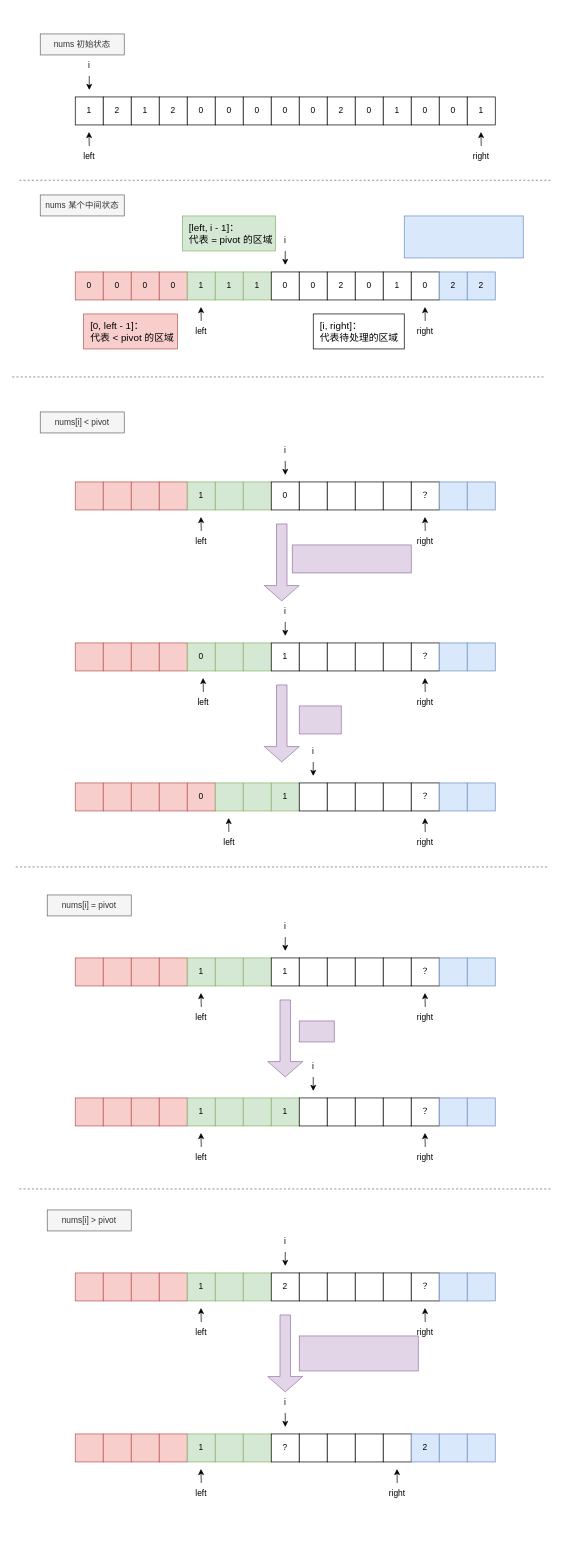
Image size: 573x1549. Some labels were removed from this diagram. The box of each missing label's shape, as (x1, y1, x2, y2) in pixels:
[right+1, len(nums) - 1]： 代表 > pivot 的区域: (404, 215, 523, 258)
i += 1: (299, 1020, 334, 1042)
left += 1 i += 1: (299, 705, 341, 734)
交换 nums[i] nums[right] right -= 1: (299, 1335, 418, 1371)
交换 nums[i], nums[left]: (292, 544, 411, 573)
